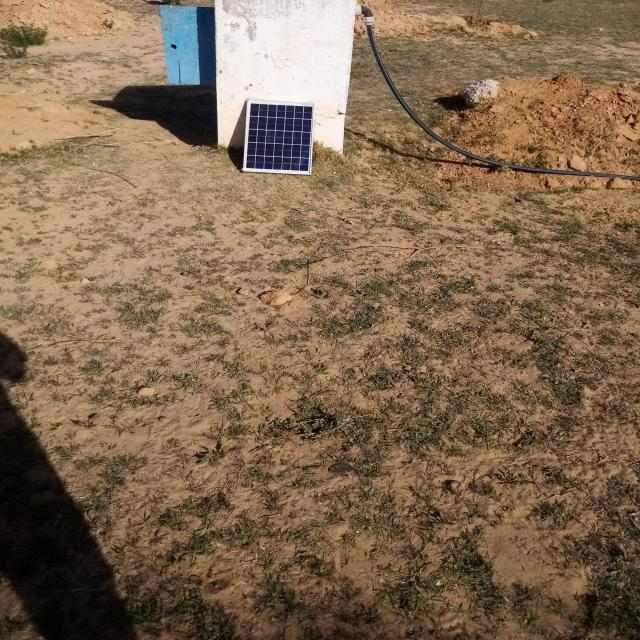no faulty: (244, 101, 313, 175)
